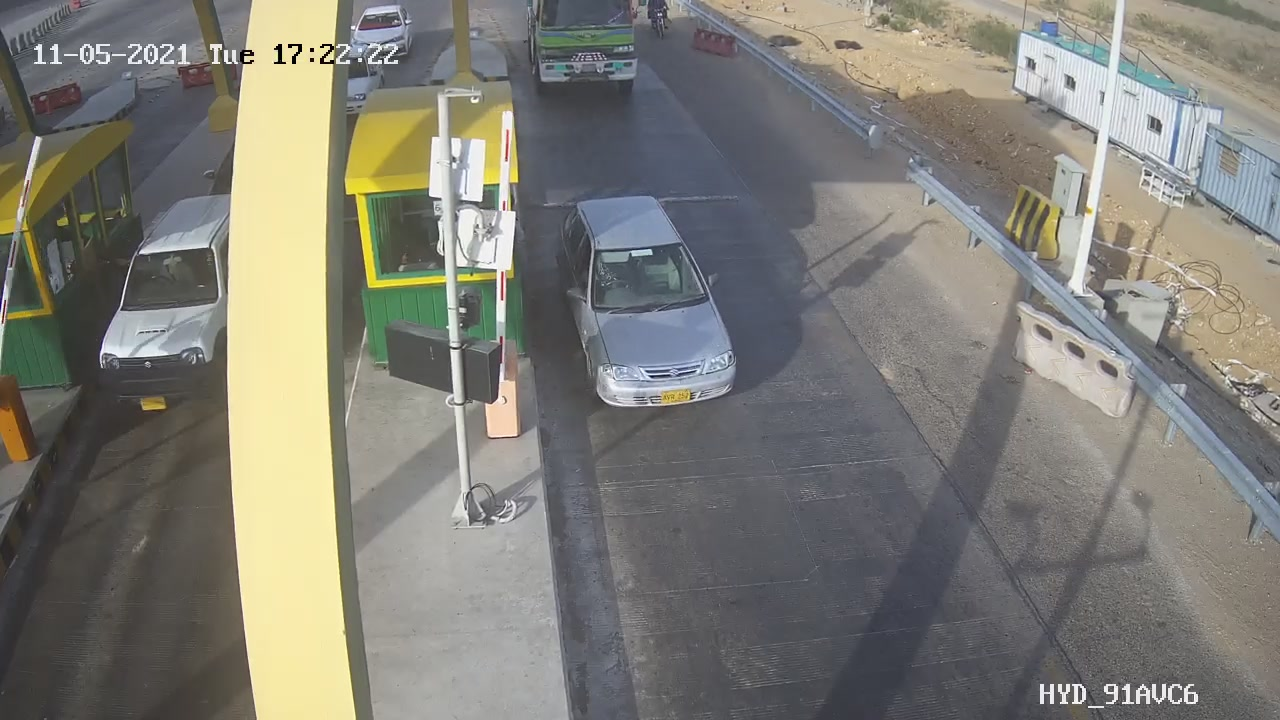F1: (534, 182, 772, 430)
